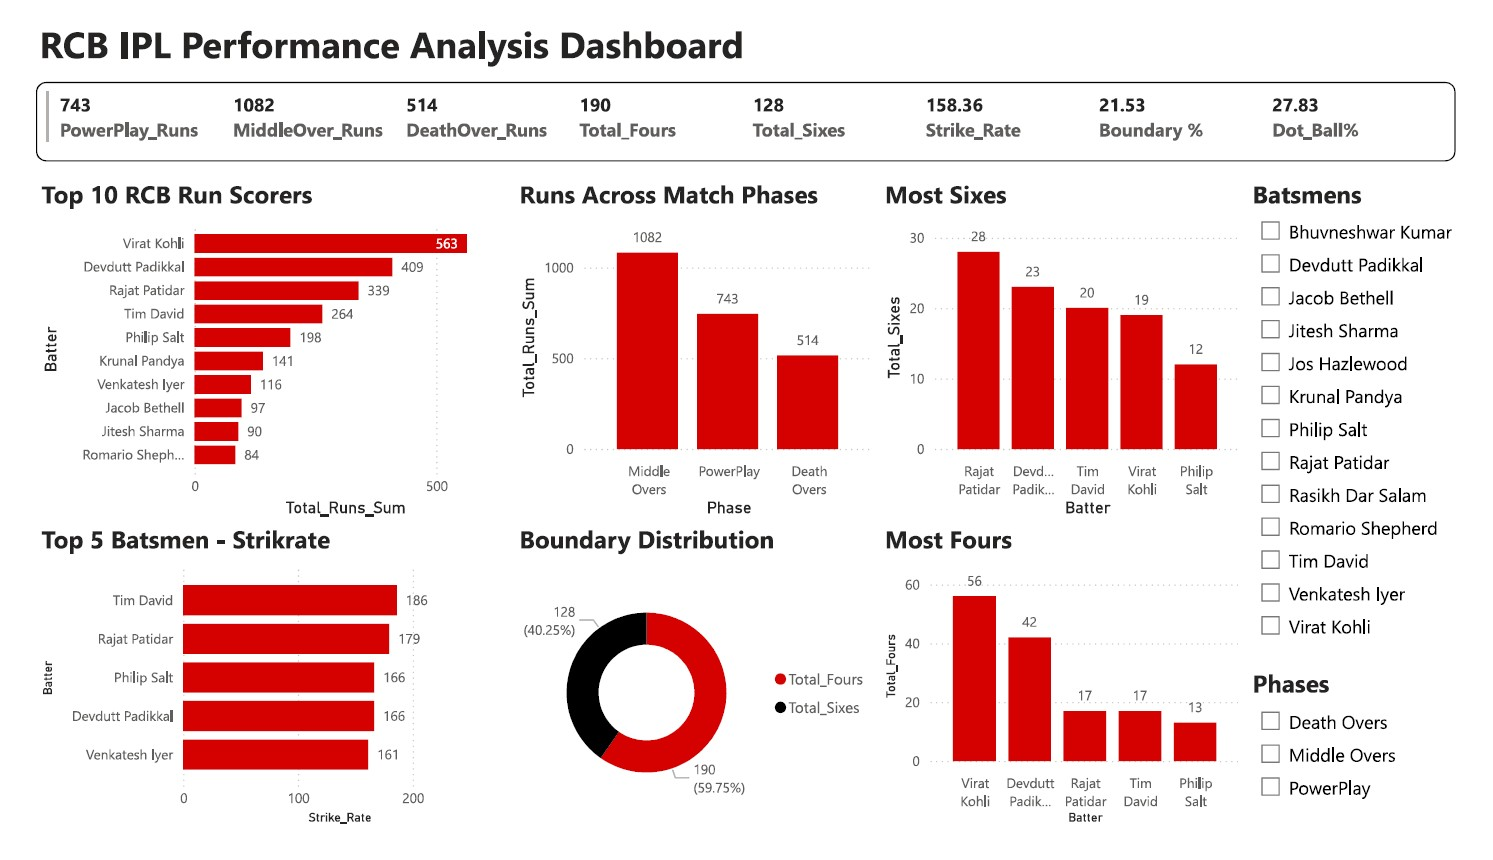

What the dashboard file says about the page in this screenshot:
{"tool":"powerbi","page":{"name":"Dashboard","canvas":[1280,720],"ordinal":0},"visuals":[{"type":"textbox","box":[11.2,0,645,61.2],"z":0},{"type":"multiRowCard","fields":{"Values":["rcb_batter.PowerPlay_Runs","rcb_batter.MiddleOver_Runs","rcb_batter.DeathOver_Runs","rcb_batter.Total_Fours","rcb_batter.Total_Sixes","rcb_batter.Strike_Rate","rcb_batter.Boundary %","rcb_batter.Dot_Ball%"]},"box":[12.5,61.2,1251.2,70],"z":1000},{"type":"clusteredBarChart","title":"Top 10 RCB Run Scorers","fields":{"Category":["rcb_batter.Batter"],"Y":["rcb_batter.Total_Runs_Sum"]},"box":[12.5,145,421.2,303.8],"z":2000},{"type":"donutChart","title":"Boundary Distribution","fields":{"Y":["rcb_batter.Total_Fours","rcb_batter.Total_Sixes"]},"box":[434,449,322,271],"z":3000},{"type":"columnChart","title":"Runs Across Match Phases","fields":{"Category":["rcb_batter.Phase"],"Y":["rcb_batter.Total_Runs_Sum"]},"box":[434,145,322,304],"z":4000},{"type":"slicer","title":"Batsmens","fields":{"Values":["rcb_batter.Batter"]},"box":[1080,145,200,415],"z":5000},{"type":"clusteredBarChart","title":"Top 5 Batsmen - Strikrate","fields":{"Category":["rcb_batter.Batter"],"Y":["rcb_batter.Strike_Rate"]},"box":[12.5,448.8,421.2,271.2],"z":6000},{"type":"slicer","title":"Phases","fields":{"Values":["rcb_batter.Phase"]},"box":[1080,576.2,200,143.8],"z":7000},{"type":"columnChart","title":"Most Sixes","fields":{"Category":["rcb_batter.Batter"],"Y":["rcb_batter.Total_Sixes"]},"box":[756,145,323,304],"z":8000},{"type":"columnChart","title":"Most Fours","fields":{"Y":["rcb_batter.Total_Fours"],"Category":["rcb_batter.Batter"]},"box":[756,449,323,271],"z":9000}]}

Visuals, with their boxes in screenshot pixels (x1, y1, x2, y2), scaled from the page's 1280x720 canvas onto the 1493x860 screenshot:
textbox: Rect(13, 0, 765, 73)
multiRowCard - rcb_batter.PowerPlay_Runs x rcb_batter.MiddleOver_Runs: Rect(15, 73, 1474, 157)
"Top 10 RCB Run Scorers" clusteredBarChart: Rect(15, 173, 506, 536)
"Boundary Distribution" donutChart: Rect(506, 536, 882, 859)
"Runs Across Match Phases" columnChart: Rect(506, 173, 882, 536)
"Batsmens" slicer: Rect(1260, 173, 1492, 669)
"Top 5 Batsmen - Strikrate" clusteredBarChart: Rect(15, 536, 506, 859)
"Phases" slicer: Rect(1260, 688, 1492, 859)
"Most Sixes" columnChart: Rect(882, 173, 1259, 536)
"Most Fours" columnChart: Rect(882, 536, 1259, 859)
